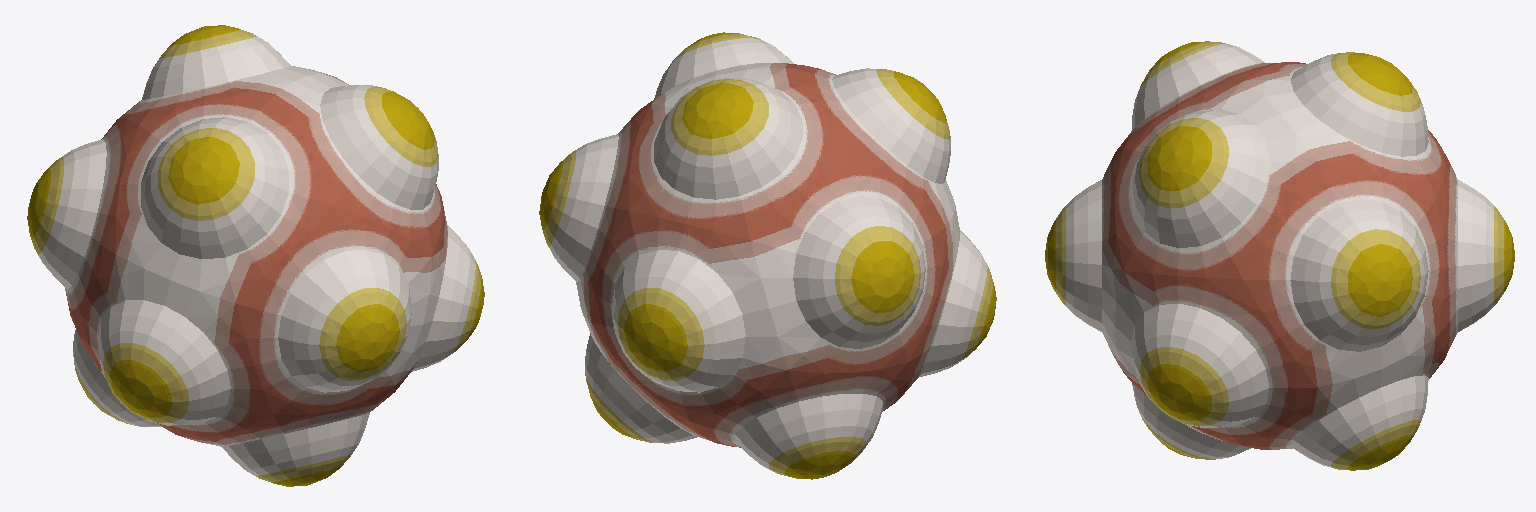
3 renders of one model, left to right at view 1: azimuth 30°, elevation 25°; view 2: azimuth 150°, elevation 25°; view 3: azimuth 270°, elevation 25°, orthographic.
Parts seen in each view (by area): view 1: core_18_0; view 2: core_18_0; view 3: core_18_0.
Part boxes in pixels (x1,y1,x2,y2): core_18_0: (27, 25, 484, 486); core_18_0: (539, 32, 996, 479); core_18_0: (1045, 41, 1514, 470).
Size of the model in its own units: 0.0478 by 0.0494 by 0.0537.
1 materials, 1 textured.